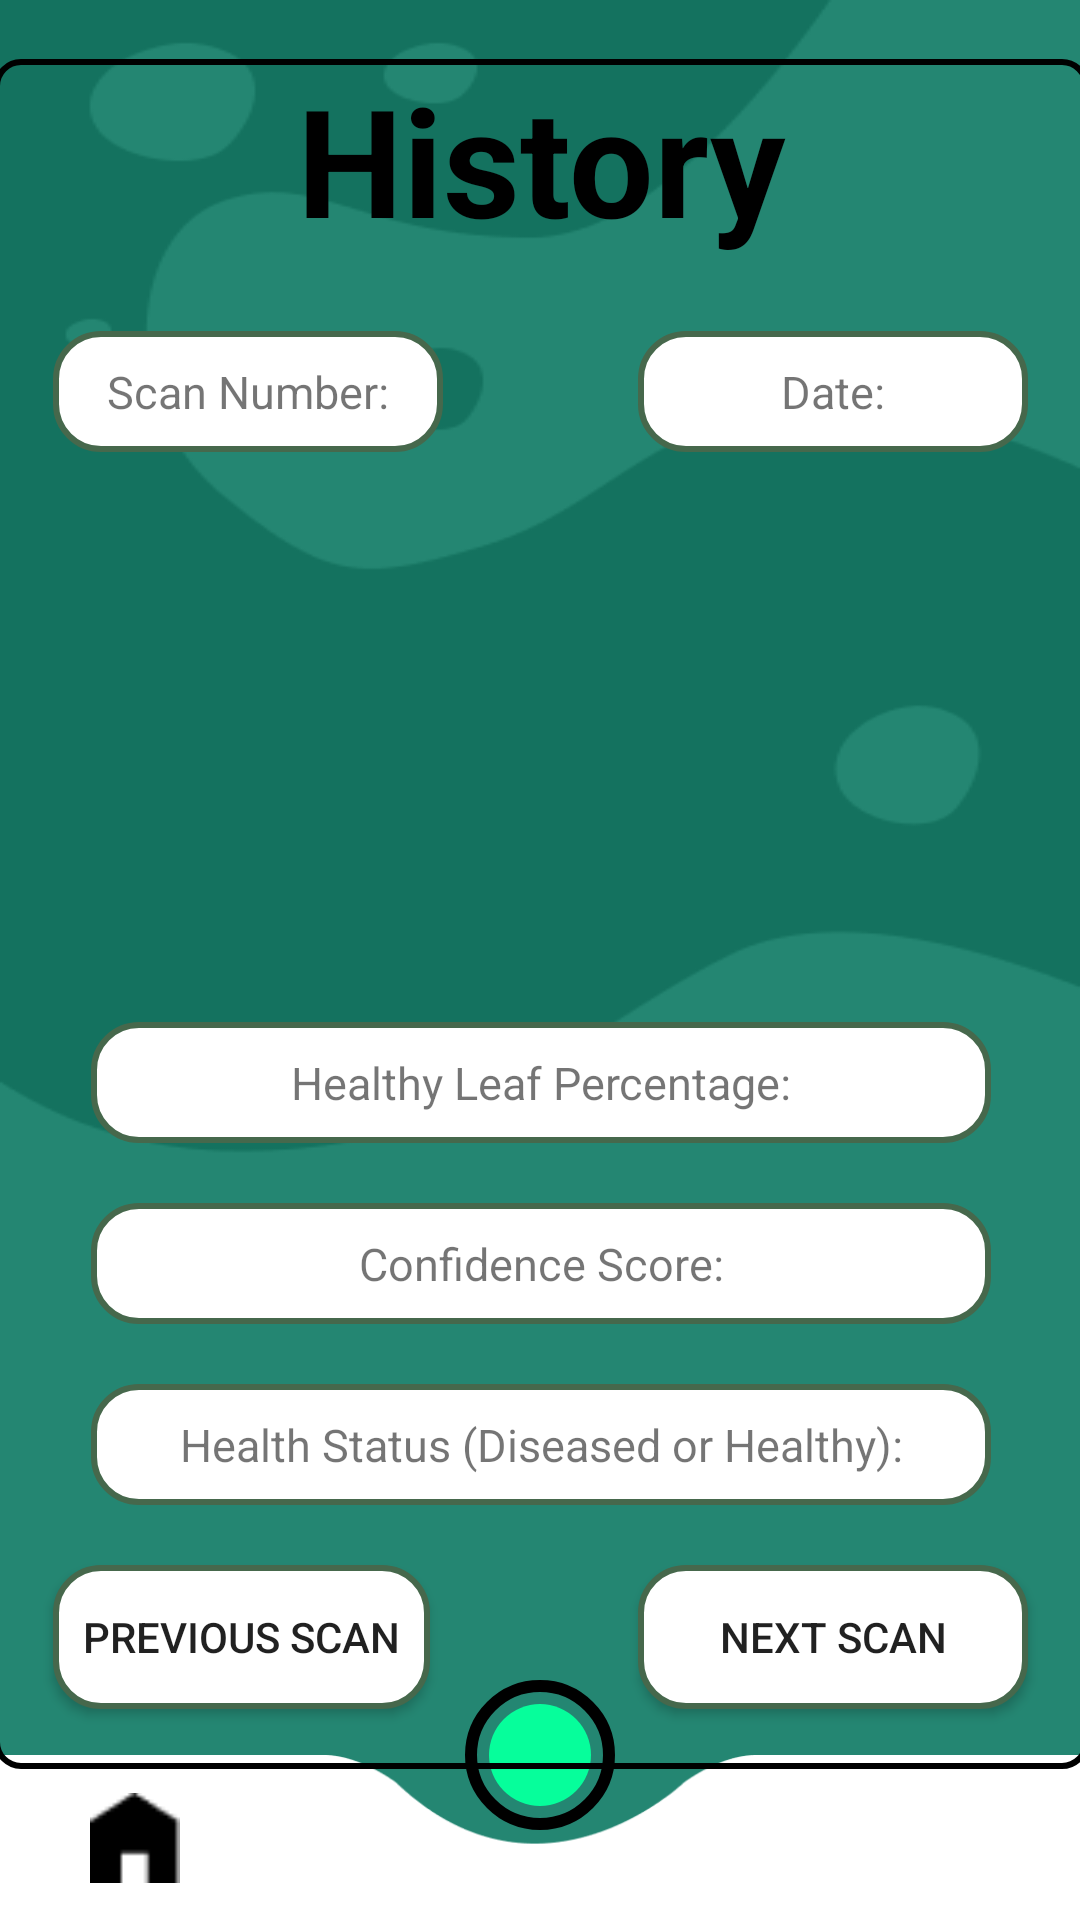

Icons on this 1080 × 1920 Android screen, each with the point to tap as point (x, y):
takephoto: point (540, 1755)
